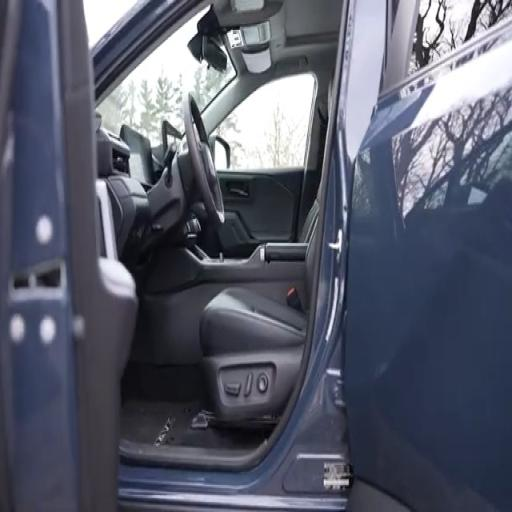door: (344, 3, 511, 510), (0, 0, 136, 510), (201, 73, 321, 257), (0, 0, 20, 510)
side_mirror: (210, 136, 231, 169)
window: (216, 74, 315, 170), (409, 0, 511, 75)
windshield: (97, 12, 235, 145), (84, 0, 147, 46)
